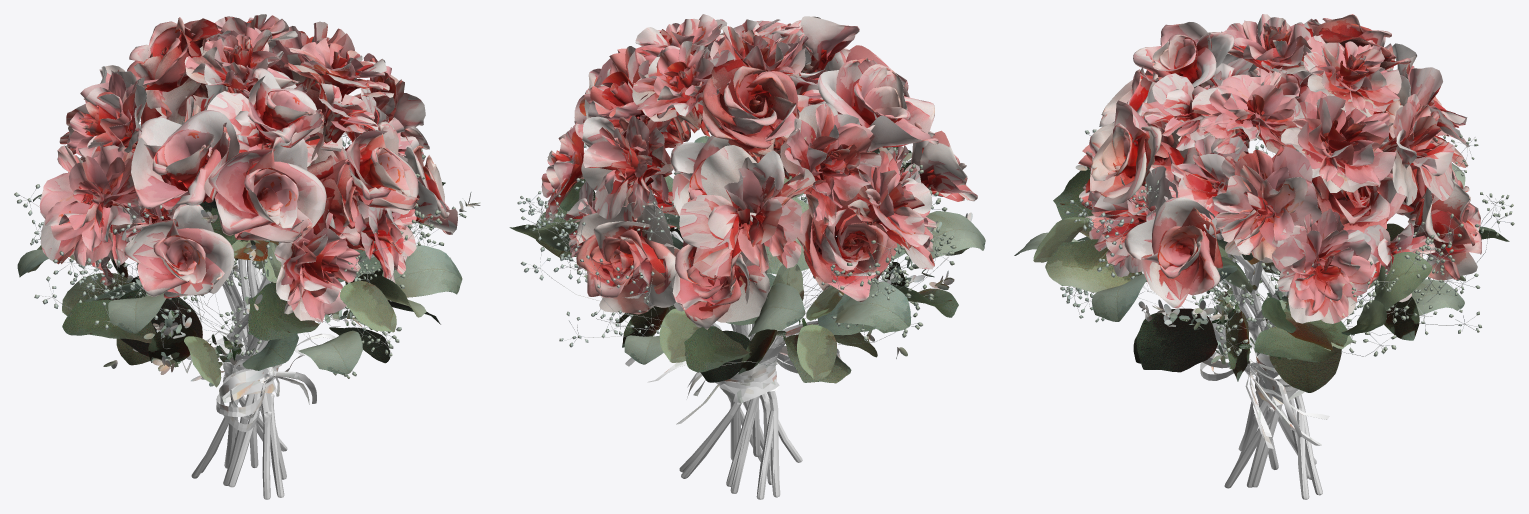
File: SM_Buquet_Bv11.fbx
3 views of the same model, side by side, from view 1: azimuth 30°, elevation 25°; view 2: azimuth 150°, elevation 25°; view 3: azimuth 270°, elevation 25° (orthographic). The views are drawn at different scales.
Visible parts, largest first — view 1: Leaves_003, Leaves_002, Petal_010, Petal_005, Petal_012, Petal_004, Stems, Petal_022, Petal_019, Petal_002, Petal_008, Petal_025 (+26 smaller); view 2: Leaves_002, Petal_001, Petal_016, Petal_002, Petal_019, Petal_012, Petal_014, Petal_009, Stems, Petal_010, Petal_003, Petal_007 (+24 smaller); view 3: Leaves_003, Petal_017, Petal_018, Petal_015, Petal_021, Leaves_001, Petal_020, Stems, Petal_007, Petal_008, Petal_014, Petal_016 (+26 smaller).
Boxes of the visible parts, x1,y1,x2,y2 form: Leaves_003: (136, 198, 462, 374); Leaves_002: (17, 194, 298, 387); Petal_010: (39, 143, 138, 267); Petal_005: (208, 132, 326, 243); Petal_012: (131, 110, 239, 210); Petal_004: (124, 204, 234, 298); Stems: (191, 134, 287, 499); Petal_022: (274, 209, 360, 322); Petal_019: (127, 17, 222, 124); Petal_002: (67, 70, 146, 162); Petal_008: (346, 121, 418, 214); Petal_025: (247, 68, 323, 149); Leaves_002: (622, 197, 985, 383); Petal_001: (679, 145, 815, 278); Petal_016: (576, 202, 676, 314); Petal_002: (780, 102, 881, 225); Petal_019: (701, 59, 800, 155); Petal_012: (817, 57, 938, 151); Petal_014: (581, 115, 665, 220); Petal_009: (797, 196, 897, 302); Stems: (670, 198, 808, 499); Petal_010: (847, 150, 936, 269); Petal_003: (664, 212, 770, 329); Petal_007: (632, 41, 735, 121); Leaves_003: (1014, 166, 1341, 392); Petal_017: (1209, 145, 1321, 263); Petal_018: (1272, 208, 1375, 323); Petal_015: (1281, 91, 1396, 192); Petal_021: (1124, 197, 1222, 308); Leaves_001: (1217, 238, 1432, 362); Petal_020: (1192, 71, 1301, 153); Stems: (1224, 182, 1376, 499); Petal_007: (1303, 34, 1401, 117); Petal_008: (1089, 100, 1161, 204); Petal_014: (1380, 94, 1455, 205); Petal_016: (1403, 180, 1481, 280).
Size of the model in its own units: 53.79 by 57.94 by 57.57.
Materials: 20 (19 with a texture image).
